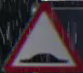Speed Breaker ahead: (3, 1, 82, 71)
